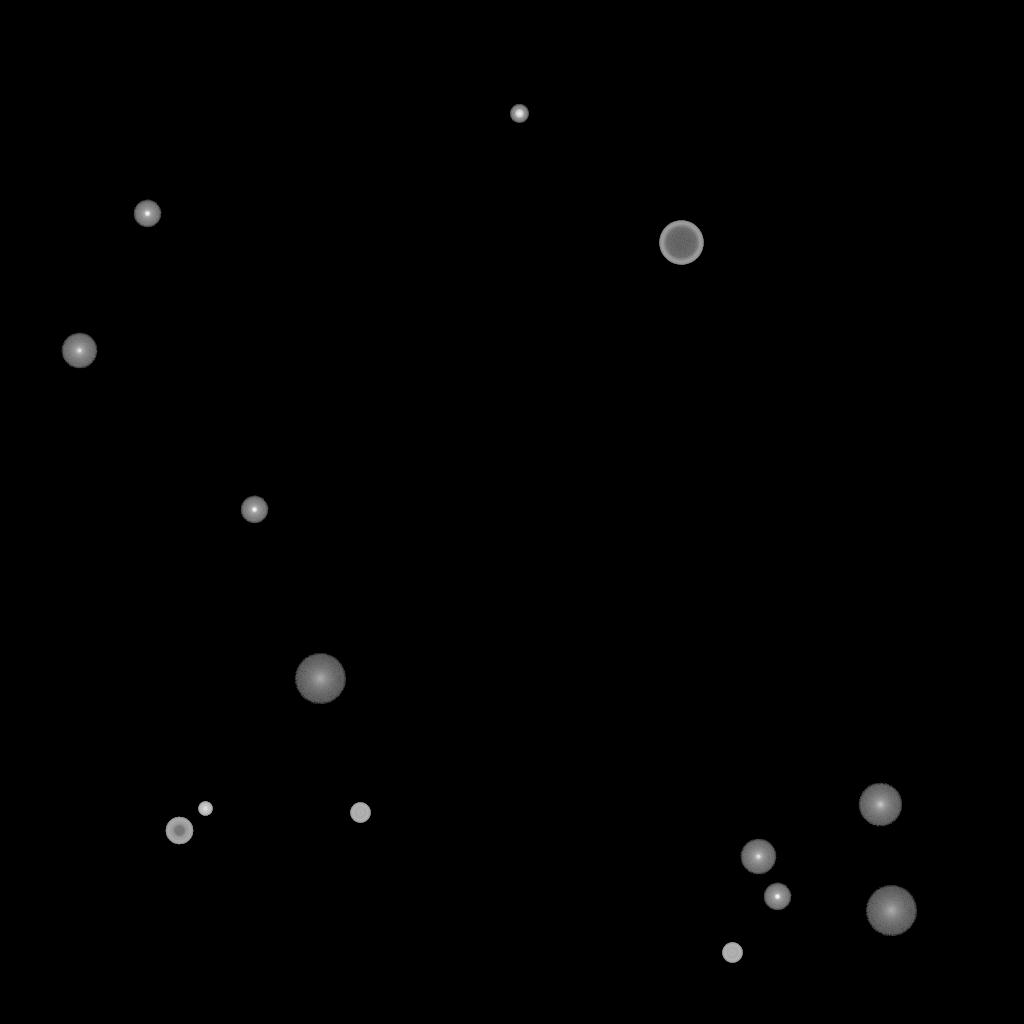depth:-10: (240, 496, 268, 524), (133, 200, 161, 228), (763, 883, 791, 911)
depth:-20: (510, 105, 528, 123)
depth:-30: (198, 802, 212, 816)
depth:-40: (722, 943, 742, 963), (350, 803, 370, 823)
depth:-50: (165, 817, 193, 845)
depth:-70: (659, 221, 703, 265)
depth:0: (740, 839, 776, 875), (61, 333, 97, 369)
depth:10: (858, 783, 902, 827)
depth:20: (294, 654, 346, 704), (865, 886, 917, 936)
